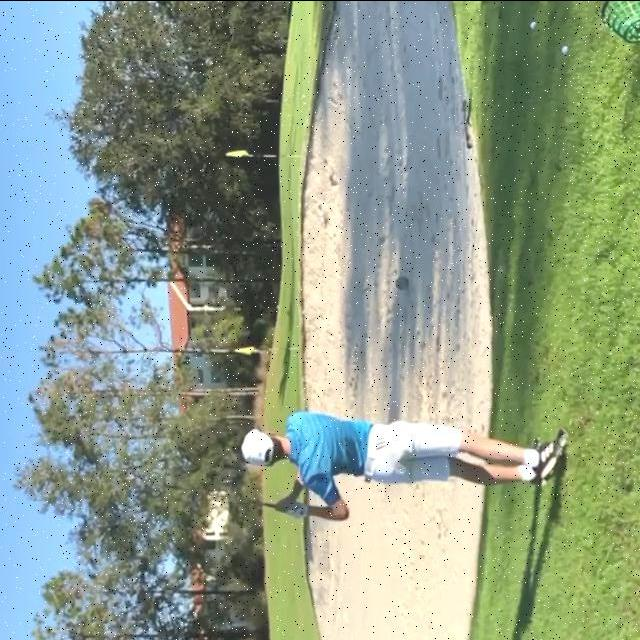ClubHandle: (235, 496, 276, 507)
